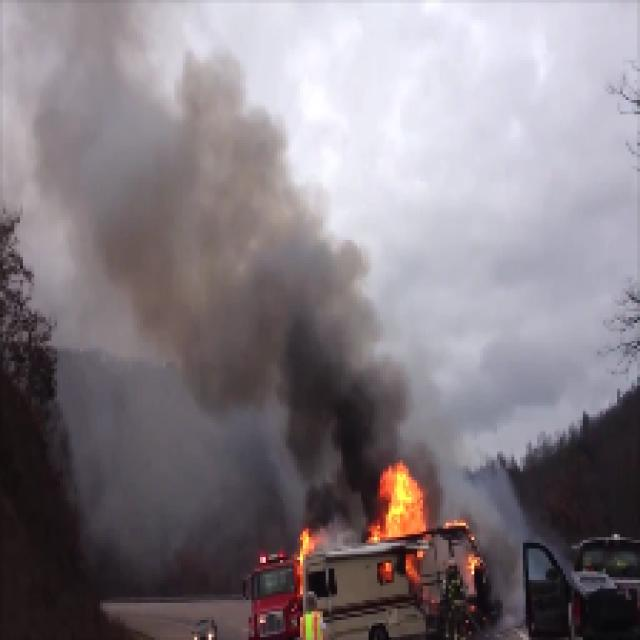fire: (370, 464, 431, 542)
smoke: (11, 0, 240, 420), (255, 172, 357, 467)
